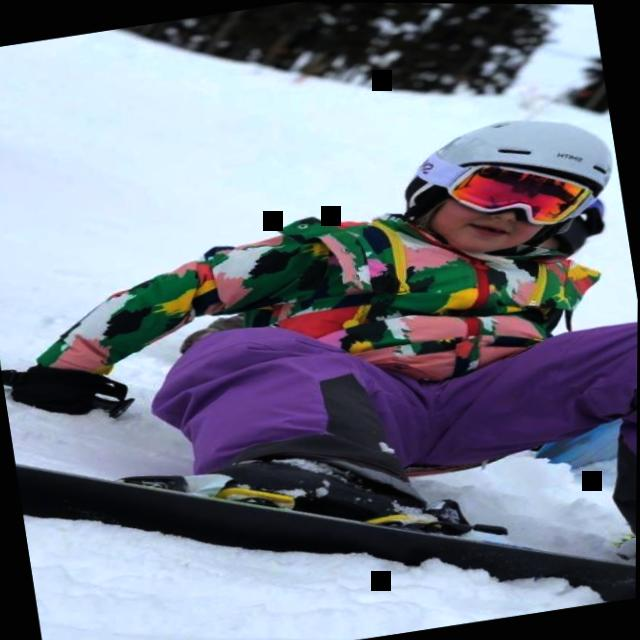Fall-Detected: (0, 115, 639, 640)
